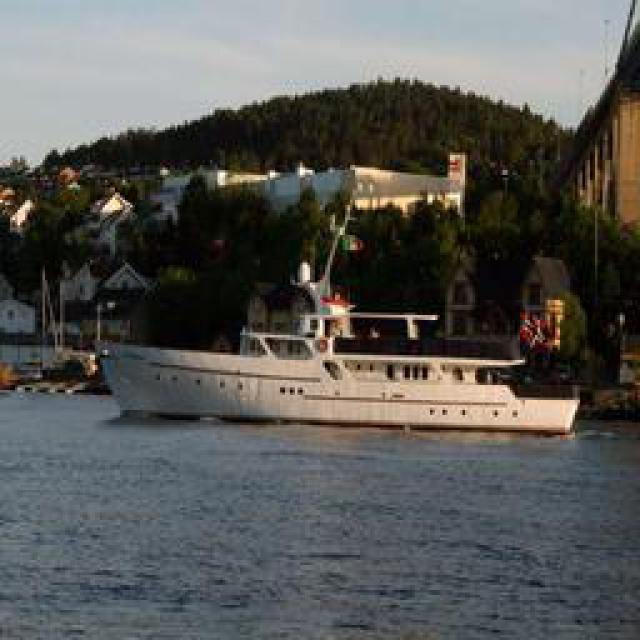Ship: (94, 322, 577, 432)
